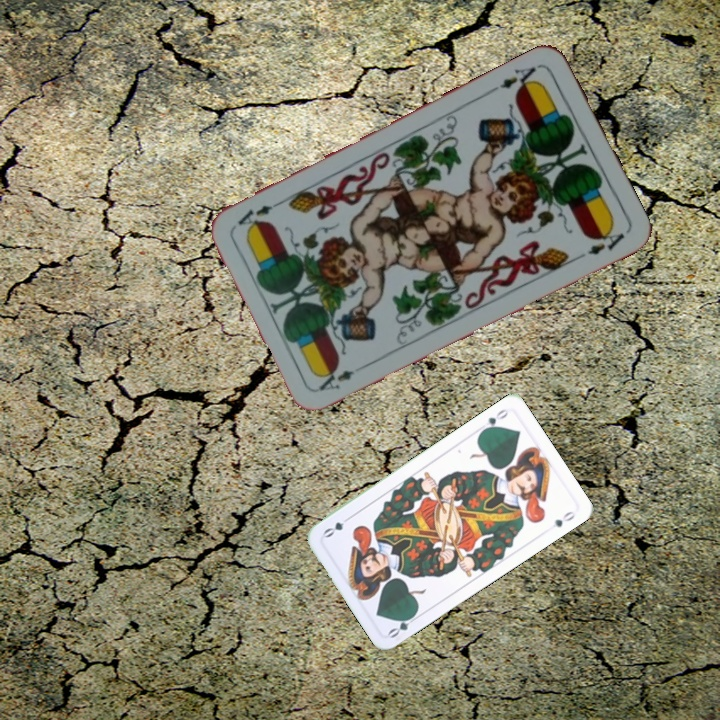EA: (314, 360, 368, 394), (488, 63, 541, 95)
GO: (384, 609, 421, 641), (477, 405, 511, 435)
